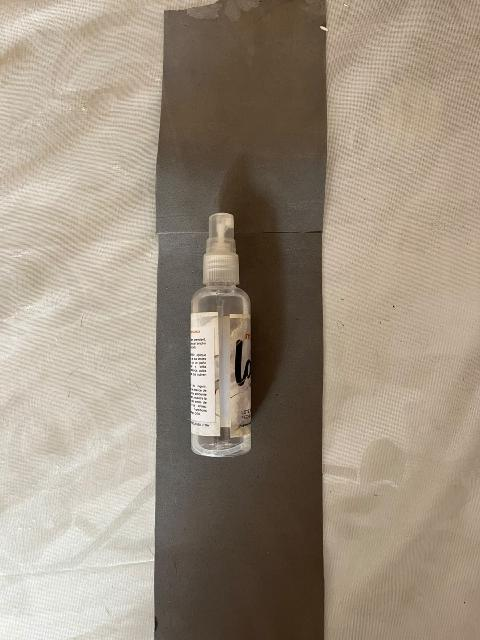PET: (143, 195, 329, 496)
